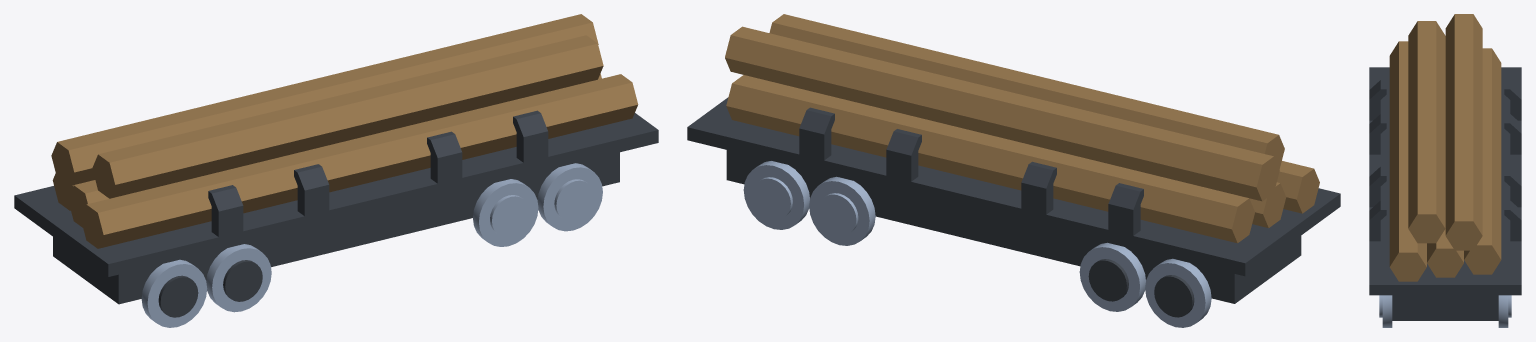
Rendered from trainWagonFlat.fbx.
3 views of the same model, side by side, from view 1: azimuth 30°, elevation 25°; view 2: azimuth 150°, elevation 25°; view 3: azimuth 270°, elevation 25° (orthographic). The views are drawn at different scales.
Visible parts, largest first — view 1: trainWagonFlat, log 4, log 1, log, wheel 8, wheel 9, log 2; view 2: trainWagonFlat, log, log 3, log 4, wheel 9, wheel 8, log 1, log 2; view 3: trainWagonFlat, log, log 4, log 1, log 3, log 2, wheel 9.
Boxes of the visible parts, x1,y1,x2,y2 form: trainWagonFlat: [14, 110, 658, 304]; log 4: [92, 35, 603, 198]; log 1: [80, 74, 638, 248]; log: [51, 14, 598, 186]; wheel 8: [141, 244, 271, 327]; wheel 9: [473, 163, 602, 246]; log 2: [68, 73, 601, 227]; trainWagonFlat: [687, 97, 1340, 303]; log: [725, 26, 1279, 201]; log 3: [726, 75, 1254, 243]; log 4: [769, 14, 1284, 168]; wheel 9: [743, 161, 875, 245]; wheel 8: [1079, 242, 1211, 327]; log 1: [1277, 161, 1319, 213]; log 2: [1249, 182, 1286, 227]; trainWagonFlat: [1369, 67, 1521, 320]; log: [1445, 14, 1482, 250]; log 4: [1408, 21, 1445, 243]; log 1: [1389, 41, 1426, 281]; log 3: [1464, 48, 1501, 274]; log 2: [1427, 229, 1463, 277]; wheel 9: [1379, 295, 1511, 327].
Bounding box in the file's own units: 4.48 × 1.25 × 1.33.
